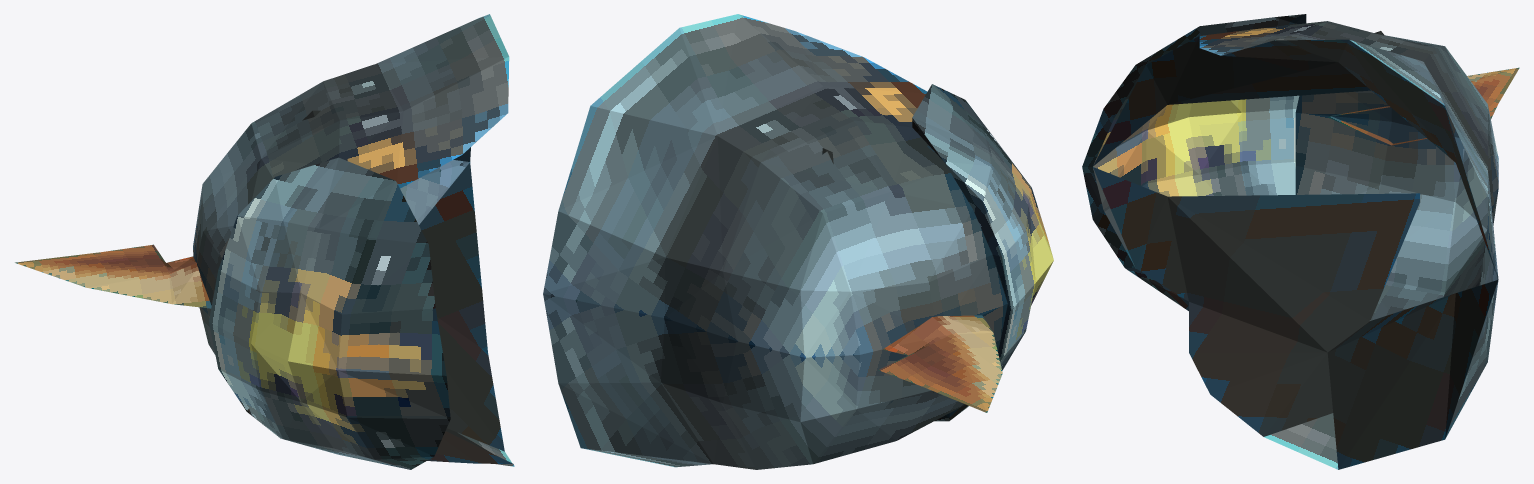
The model's file is XPARAHELMET.obj.
3 renders of one model, left to right at view 1: azimuth 30°, elevation 25°; view 2: azimuth 150°, elevation 25°; view 3: azimuth 270°, elevation 25°, orthographic. The views are drawn at different scales.
Parts seen in each view (by area): view 1: Node 0; view 2: Node 0; view 3: Node 0.
Boxes of the visible parts, x1,y1,x2,y2 form: Node 0: (15, 14, 514, 469); Node 0: (543, 14, 1053, 469); Node 0: (1082, 14, 1519, 469).
Bounding box in the file's own units: 0.47 × 0.44 × 0.41.
1 material, 1 textured.
